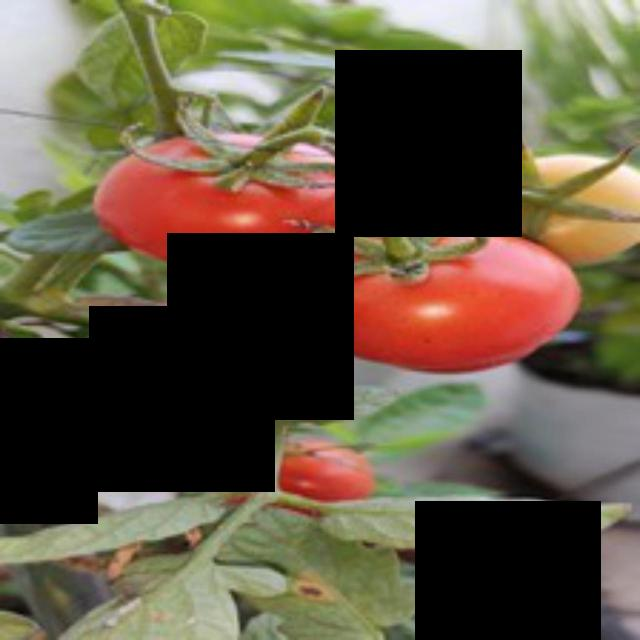tomato: (293, 191, 582, 378), (88, 114, 372, 272)
